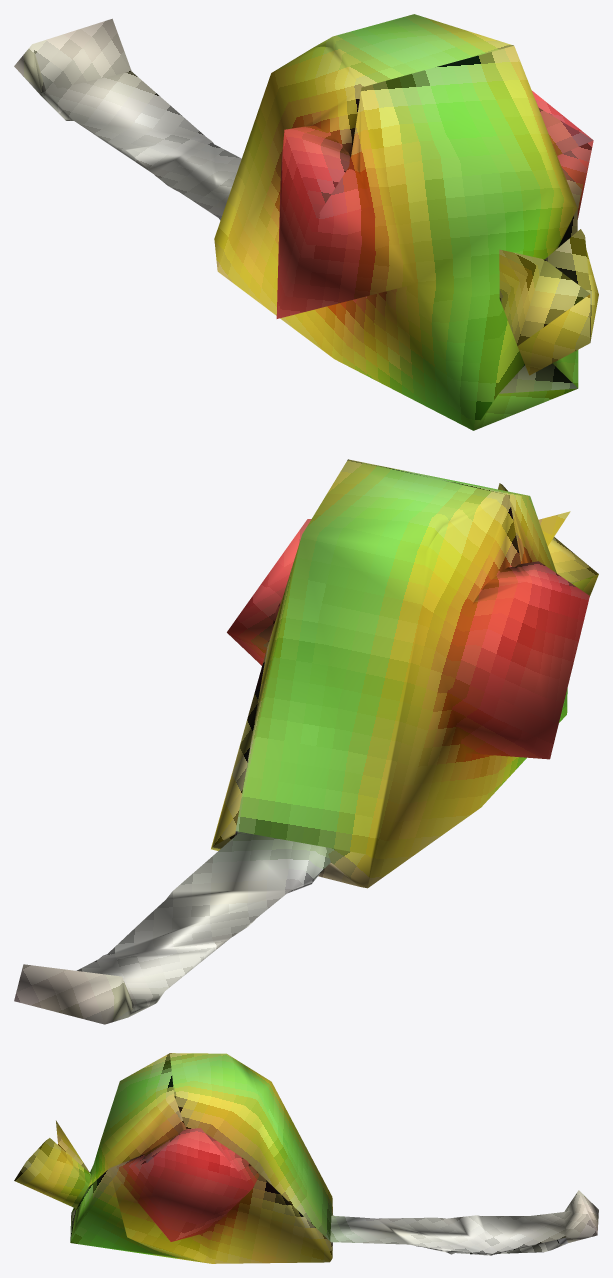
Rendered from SNAIL_MEASURING_TAPE-low.glb.
3 views of the same model, one above another, from view 1: azimuth 30°, elevation 25°; view 2: azimuth 150°, elevation 25°; view 3: azimuth 270°, elevation 25° (orthographic). The views are drawn at different scales.
Visible parts, largest first — view 1: SNAIL_MEASURING_TAPE; view 2: SNAIL_MEASURING_TAPE; view 3: SNAIL_MEASURING_TAPE.
Boxes of the visible parts, bbox=[...] form: SNAIL_MEASURING_TAPE: bbox=[14, 14, 598, 430]; SNAIL_MEASURING_TAPE: bbox=[14, 459, 598, 1024]; SNAIL_MEASURING_TAPE: bbox=[14, 1053, 598, 1263].
Bounding box in the file's own units: 0.06 × 0.0633 × 0.1936.
1 material, 1 textured.
